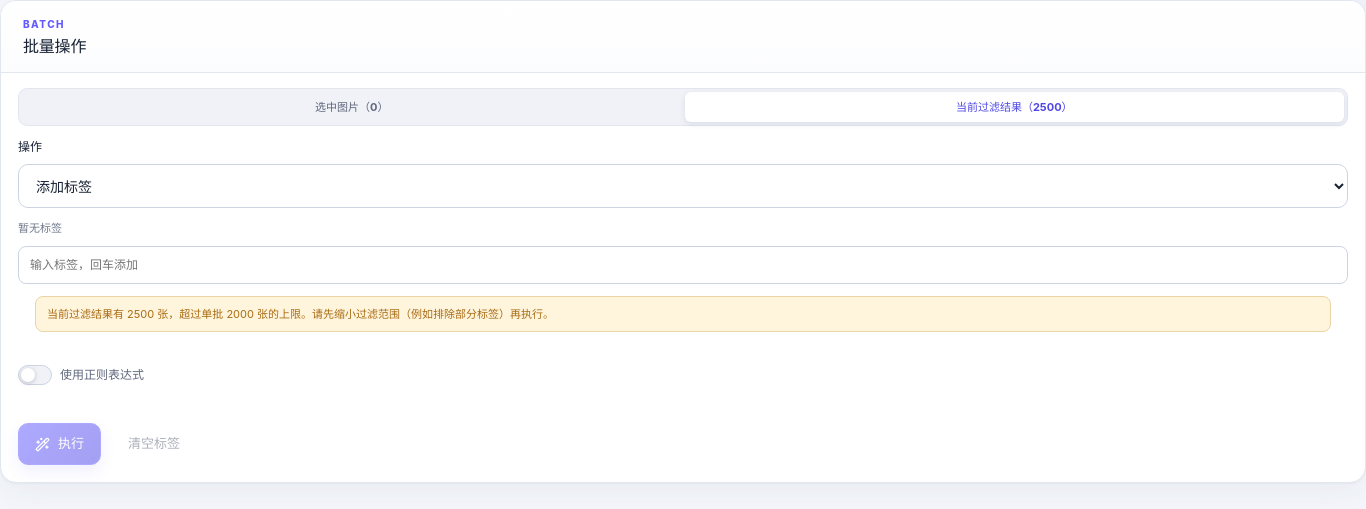
BatchBar image cap › blocks and explains a filtered scope above the 2000 image cap
This screenshot has width=1366, height=509.
expect the message shows "当前过滤结果有 2500 张，超过单批 2000 张的上限": met, box [47,306,554,320]
Type "1g" into the dropdown named "批量标签".
click(683, 264); type("1g")  # box [18,246,1348,284]
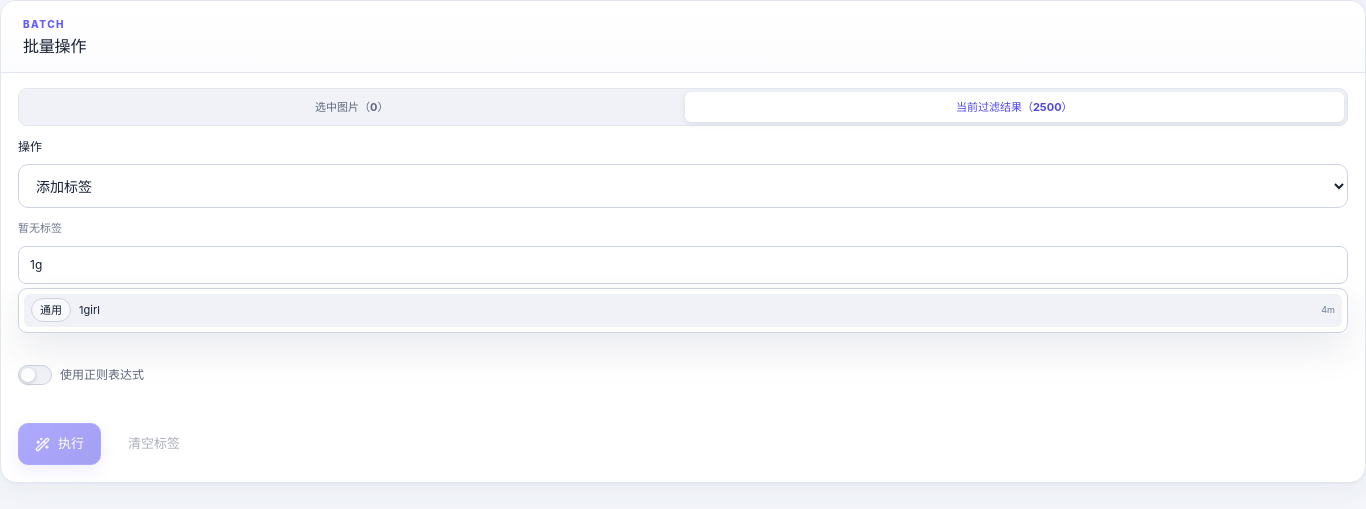
Press the mouse on the button "通用 1girl 4m" at x=51, y=310, box [24,294,1342,326]
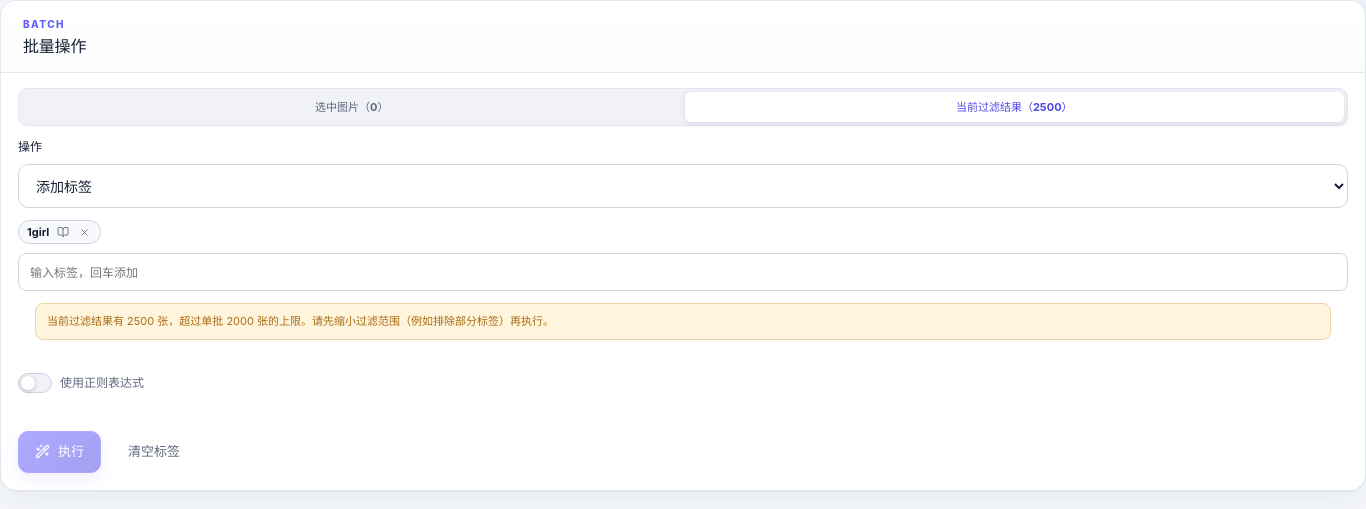
expect the button "执行" is disabled: met, box [18,430,101,472]
expect the button named "移除 1girl" is shown: met, box [77,226,92,238]
